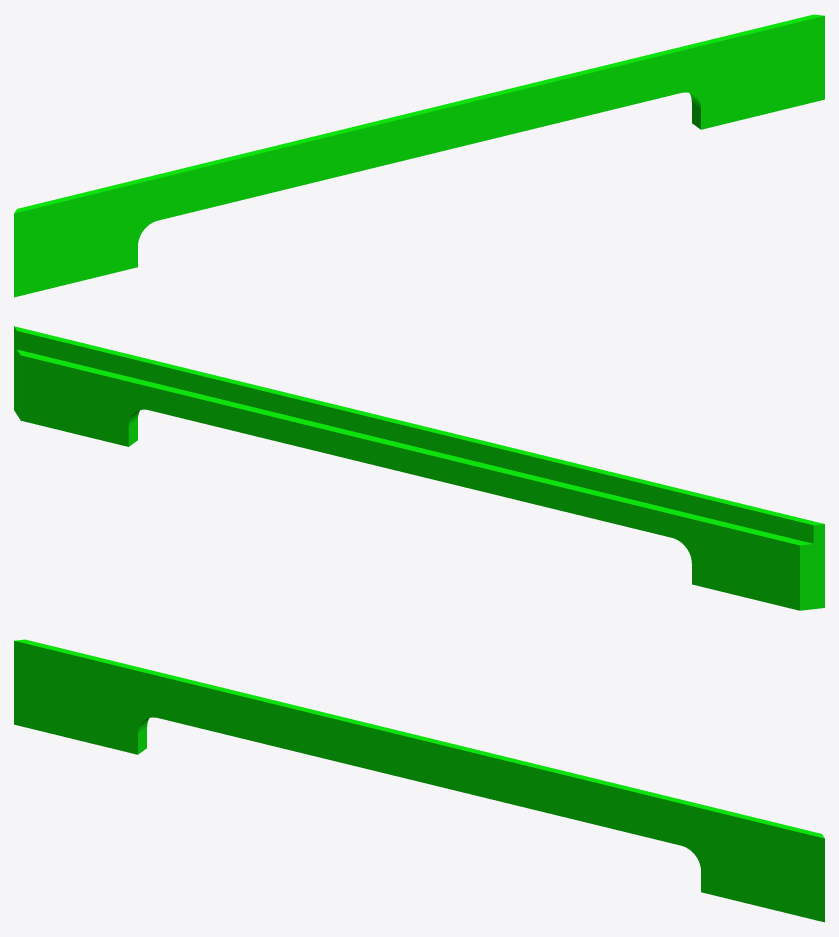
The model's file is original-7.obj.
The picture shows the model from 3 angles, top to bottom: view 1: azimuth 30°, elevation 25°; view 2: azimuth 150°, elevation 25°; view 3: azimuth 330°, elevation 25°; orthographic projection.
Visible parts, largest first — view 1: Group8/mesh13/mesh13-geometry#mesh13-geometry; view 2: Group8/mesh13/mesh13-geometry#mesh13-geometry; view 3: Group8/mesh13/mesh13-geometry#mesh13-geometry.
Boxes of the visible parts, box(x1,y1,x2,y2) form: Group8/mesh13/mesh13-geometry#mesh13-geometry: box(14, 14, 824, 297); Group8/mesh13/mesh13-geometry#mesh13-geometry: box(14, 326, 824, 610); Group8/mesh13/mesh13-geometry#mesh13-geometry: box(14, 639, 824, 922).
Size of the model in its own units: 1.37 by 0.135 by 0.0269.
